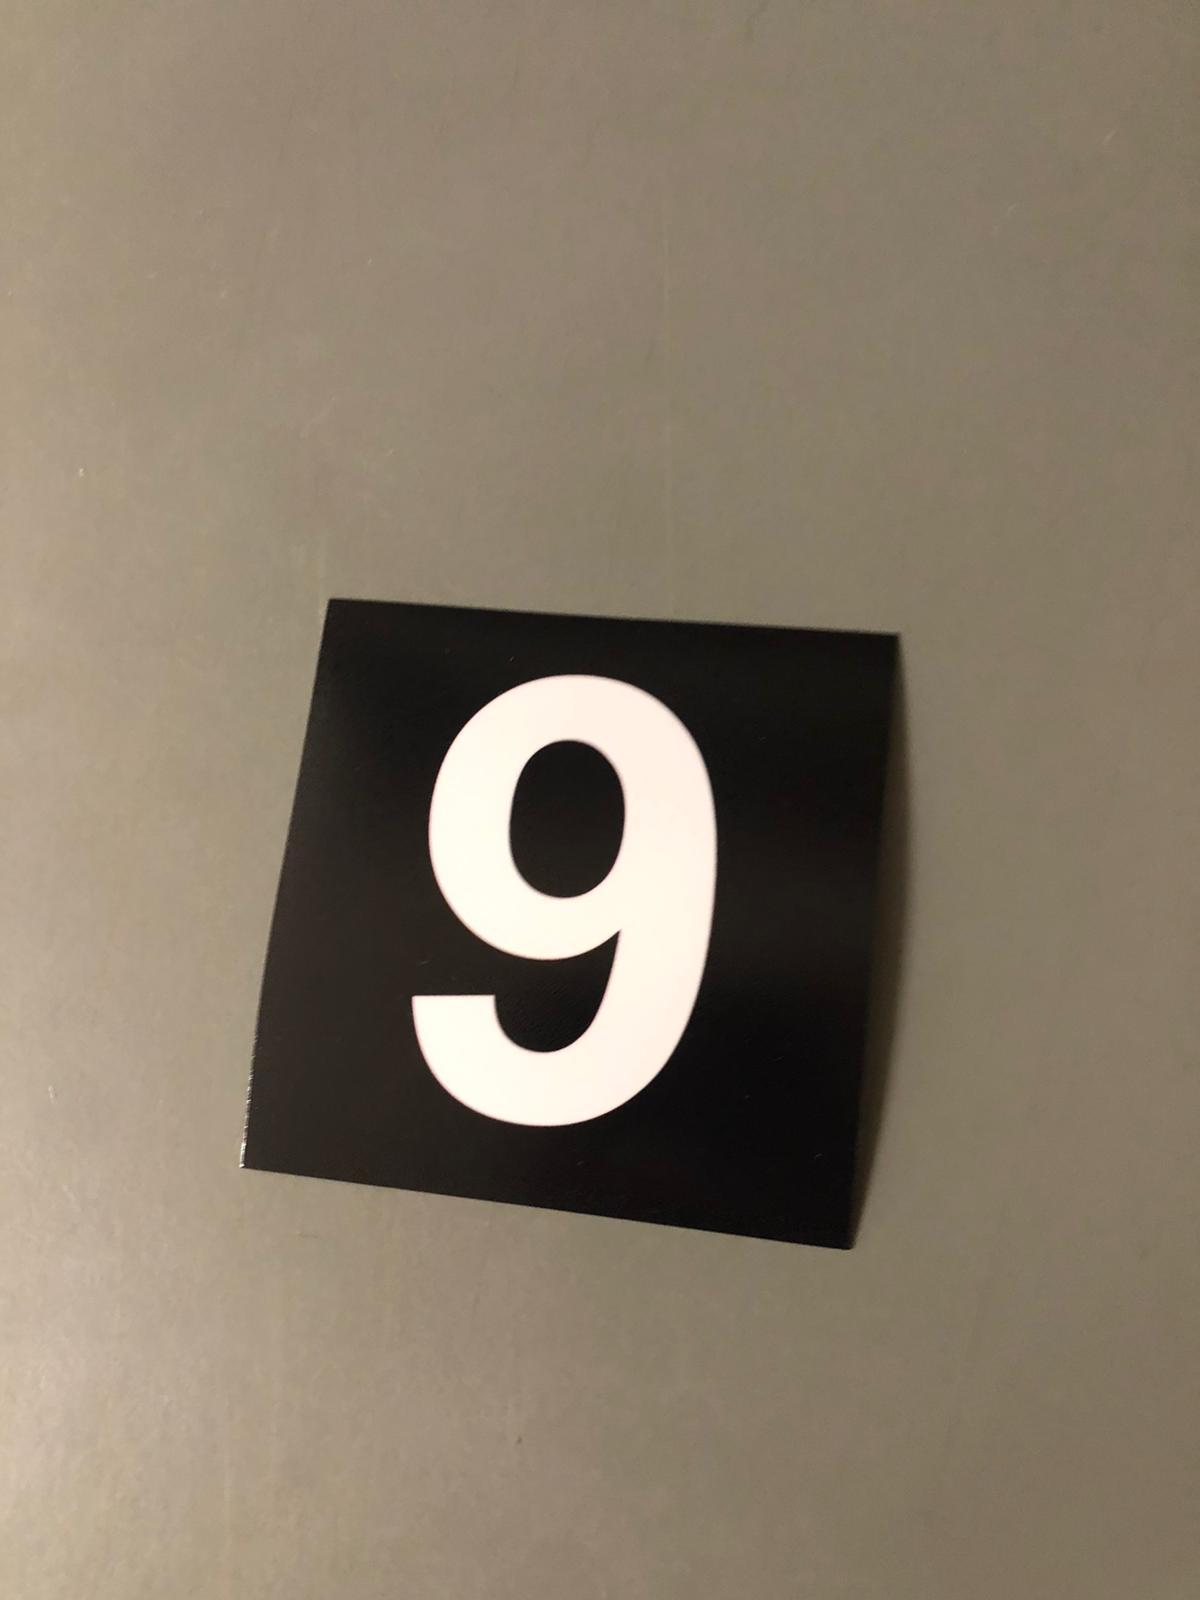Number 9: (308, 625, 824, 1201)
